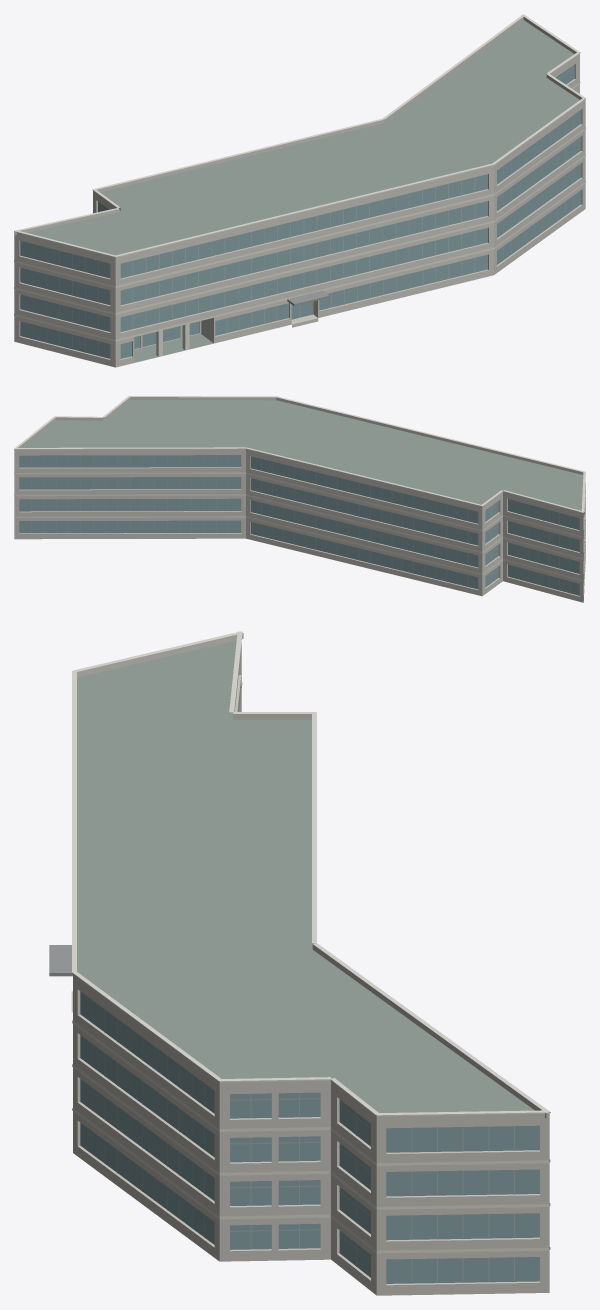
3 renders of one model, top to bottom at view 1: azimuth 30°, elevation 25°; view 2: azimuth 150°, elevation 25°; view 3: azimuth 270°, elevation 25°, orthographic. The views are drawn at different scales.
Visible parts, largest first — view 1: student2__roof, student2__glass, student2__wall, student2__trim, student2__parapet, student2__frame; view 2: student2__glass, student2__roof, student2__wall, student2__trim, student2__parapet, student2__frame; view 3: student2__roof, student2__wall, student2__glass, student2__trim, student2__parapet, student2__frame.
Part boxes in pixels (left/top/right/bottom): student2__roof: left=14, top=20, right=583, bottom=367; student2__glass: left=20, top=64, right=580, bottom=358; student2__wall: left=14, top=56, right=585, bottom=367; student2__trim: left=14, top=14, right=585, bottom=341; student2__parapet: left=14, top=15, right=585, bottom=259; student2__frame: left=33, top=67, right=574, bottom=355; student2__glass: left=19, top=455, right=579, bottom=595; student2__roof: left=14, top=400, right=583, bottom=602; student2__wall: left=14, top=451, right=585, bottom=602; student2__trim: left=14, top=396, right=585, bottom=581; student2__parapet: left=14, top=397, right=584, bottom=515; student2__frame: left=31, top=455, right=570, bottom=593; student2__roof: left=73, top=640, right=549, bottom=1295; student2__wall: left=73, top=643, right=549, bottom=1295; student2__glass: left=80, top=991, right=539, bottom=1283; student2__trim: left=72, top=631, right=550, bottom=1253; student2__parapet: left=73, top=633, right=549, bottom=1120; student2__frame: left=92, top=1000, right=514, bottom=1283.
Size of the model in its own units: 83.05 by 14.85 by 36.33.
